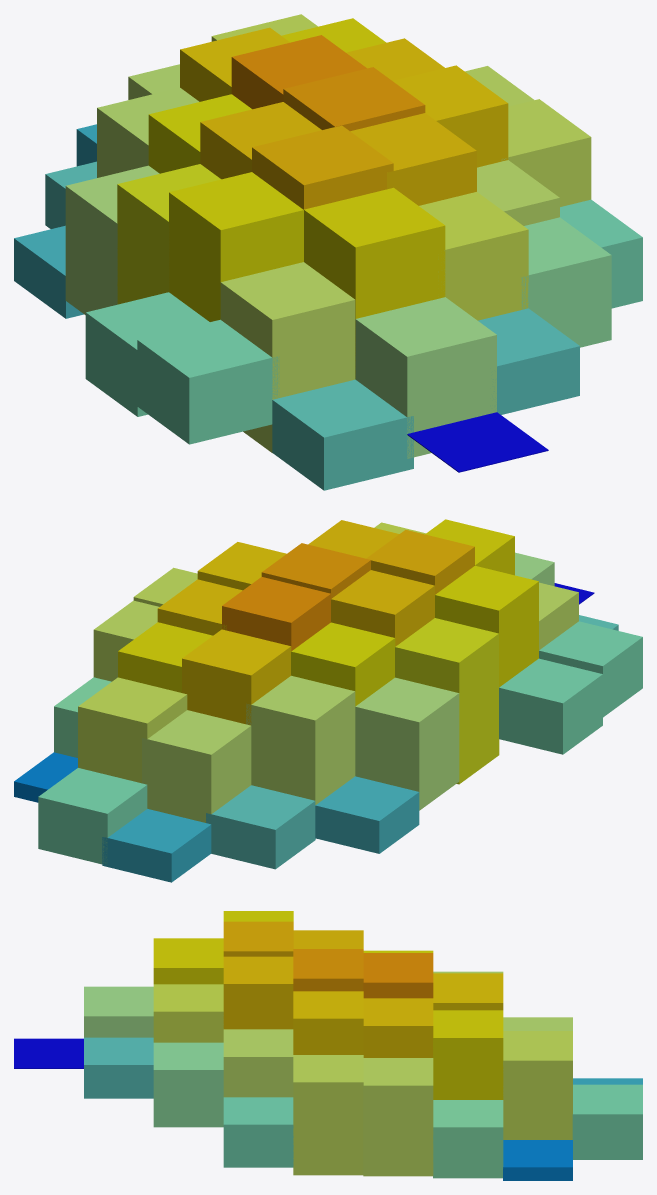
The model's file is population.glb.
The picture shows the model from 3 angles, top to bottom: view 1: azimuth 30°, elevation 25°; view 2: azimuth 150°, elevation 25°; view 3: azimuth 270°, elevation 25°; orthographic projection. The views are drawn at different scales.
Parts seen in each view (by area): view 1: population; view 2: population; view 3: population.
Part boxes in pixels (<box>): population: <box>14,14,642,490</box>; population: <box>14,519,642,882</box>; population: <box>14,911,642,1180</box>.
Bounding box in the file's own units: 562 × 244 × 896.
